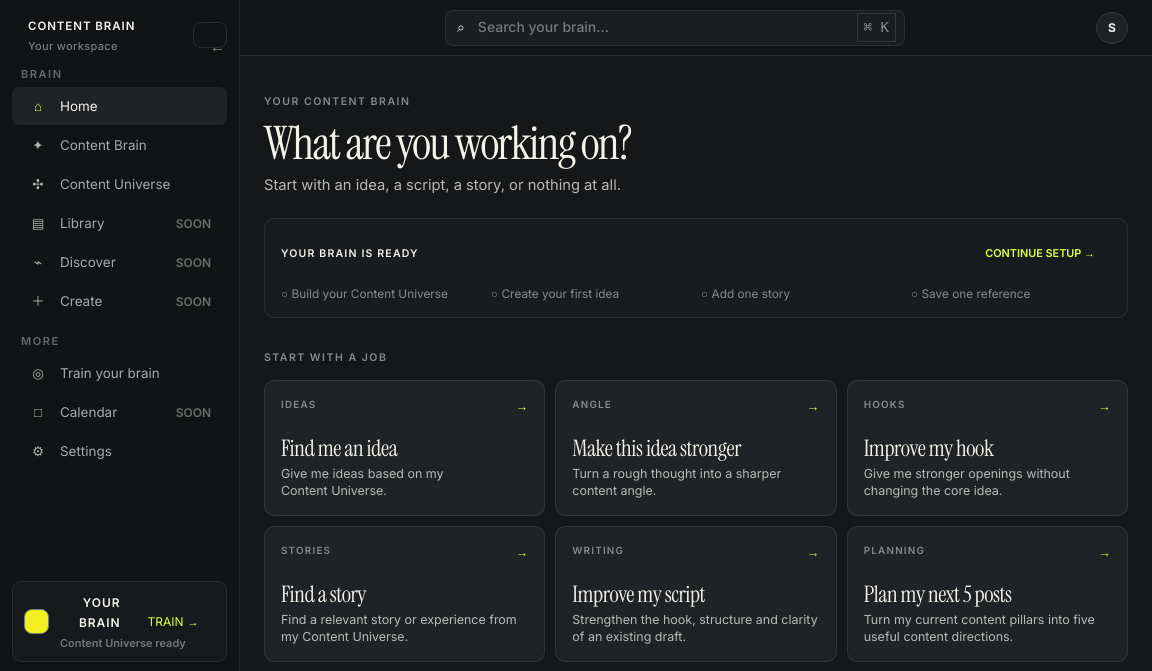
Test: WorkspaceShell › opens a tool inline and asks only for the idea
Click the button "Make this idea stronger": (696, 448) [555,380,837,516]
(page scrolled)
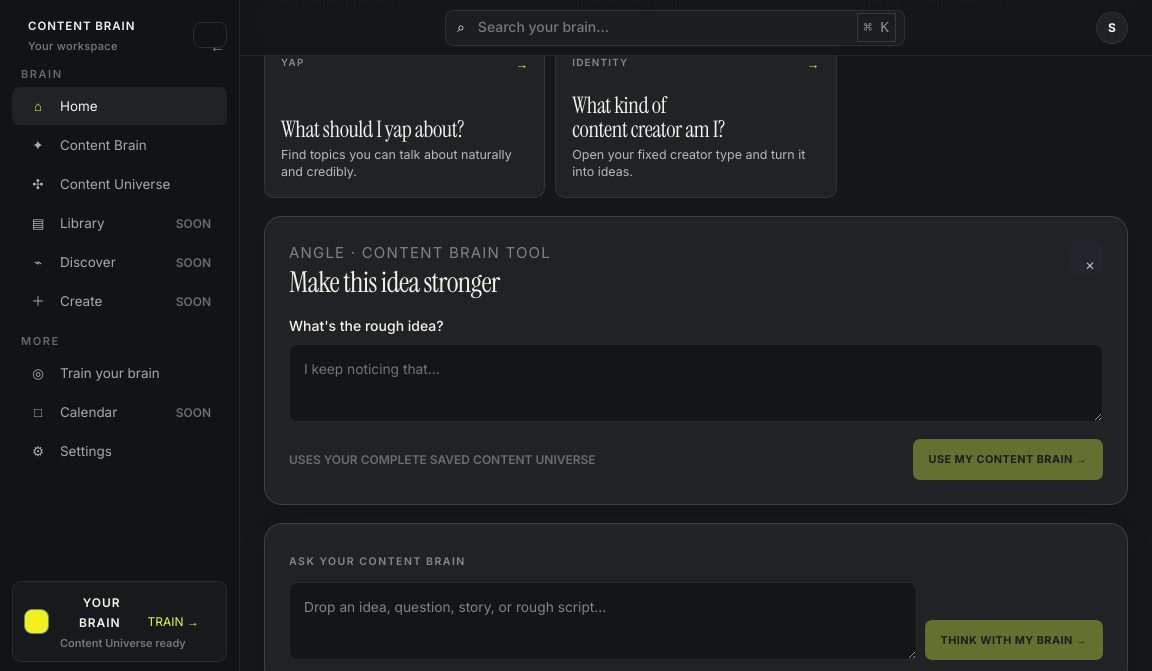
Now the text box labelled "What's the rough idea?" is shown, box [289,344,1103,422]
Now the text "USES YOUR COMPLETE SAVED CONTENT UNIVERSE" is shown, box [289,452,596,467]
